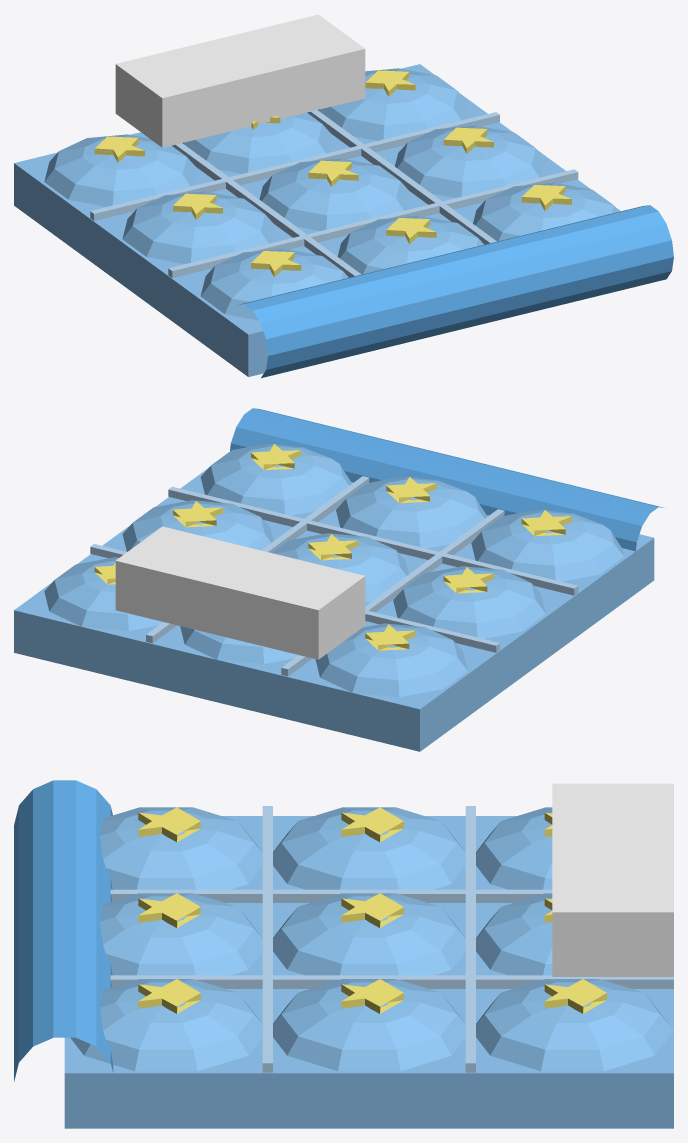
Rendered from tacke.glb.
3 renders of one model, top to bottom at view 1: azimuth 30°, elevation 25°; view 2: azimuth 150°, elevation 25°; view 3: azimuth 270°, elevation 25°, orthographic. The views are drawn at different scales.
Parts seen in each view (by area): view 1: tacke; view 2: tacke; view 3: tacke.
Part boxes in pixels (x1,y1,x2,y2): tacke: (14, 14, 673, 378); tacke: (14, 408, 664, 751); tacke: (14, 780, 673, 1128).
Bounding box in the file's own units: 0.6 × 0.165 × 0.65.
